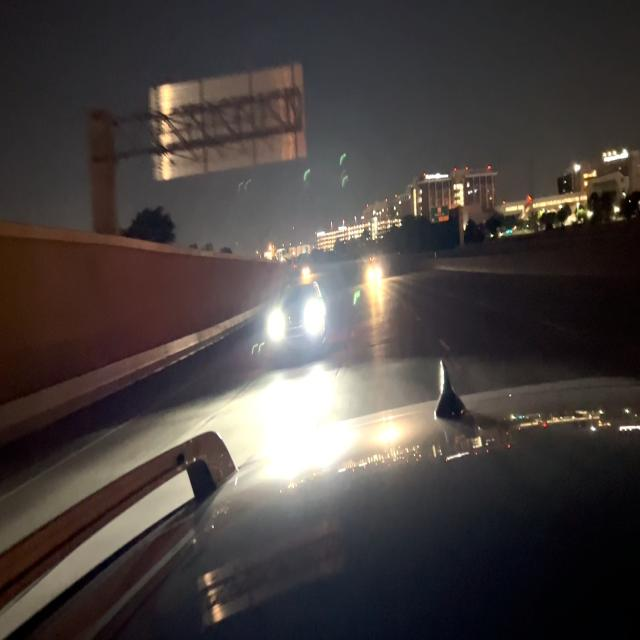back-of-sign: (152, 63, 306, 183)
